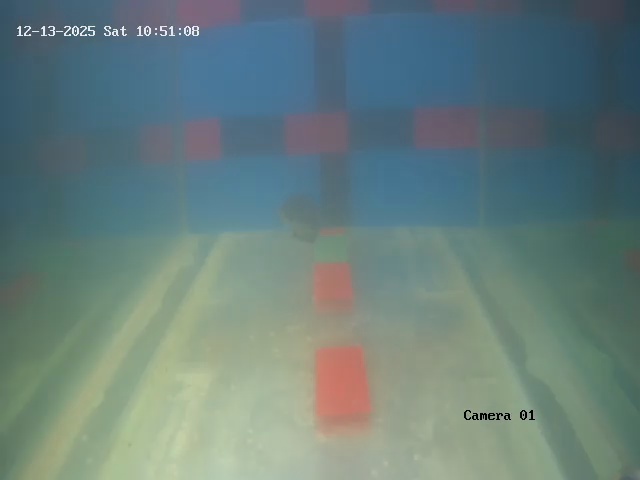fish: (271, 190, 331, 250)
